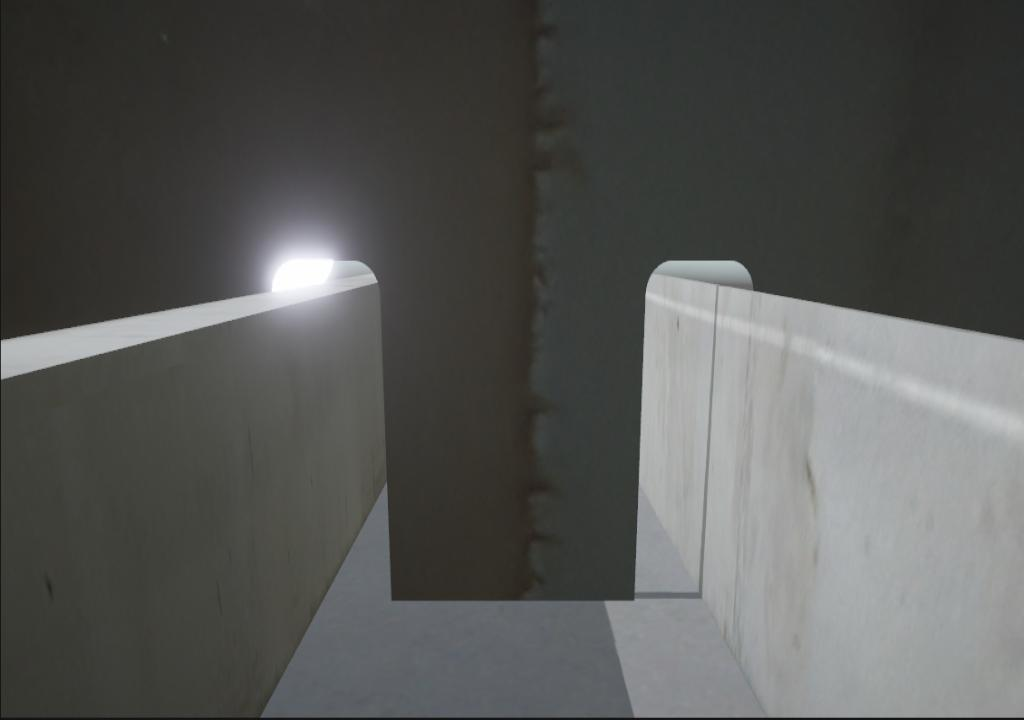fillet_yong_jeop_jang: (390, 584, 645, 614)
